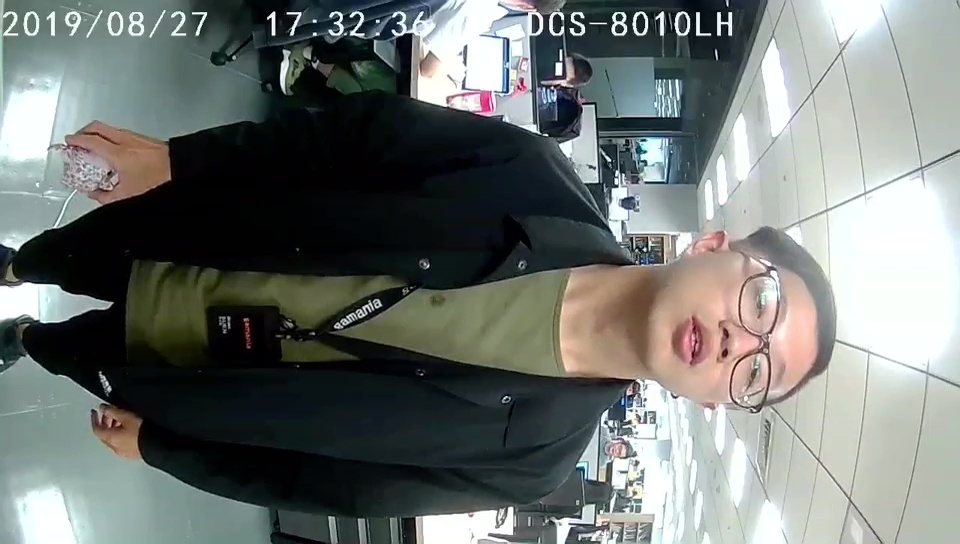pig: (61, 143, 121, 197)
